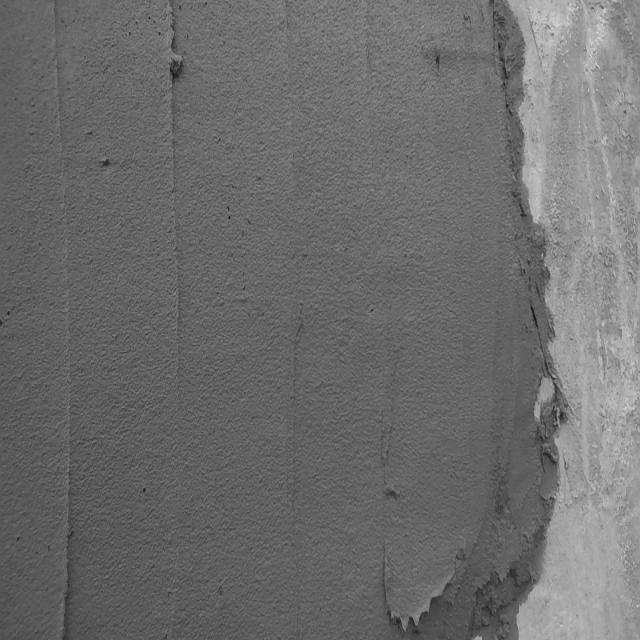trowels marks: (48, 8, 76, 630), (160, 4, 184, 372)
